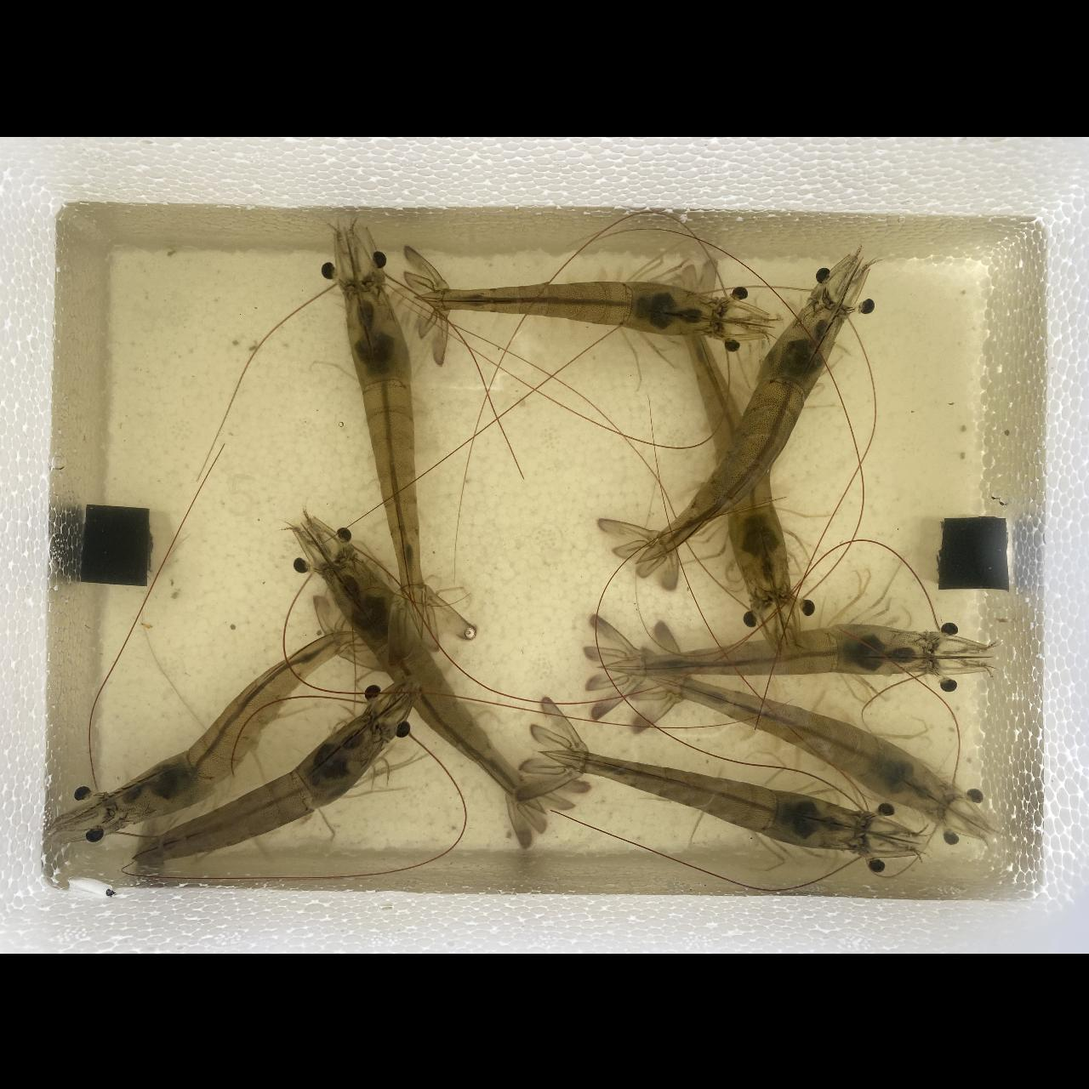box: (81, 504, 151, 585), (937, 515, 1009, 590)
top_shrimp: (327, 556, 548, 815), (634, 302, 842, 566), (111, 630, 367, 825), (646, 676, 952, 816), (127, 713, 381, 861), (682, 294, 791, 600), (538, 751, 859, 850), (346, 282, 425, 635), (597, 623, 932, 674), (412, 281, 720, 335)
